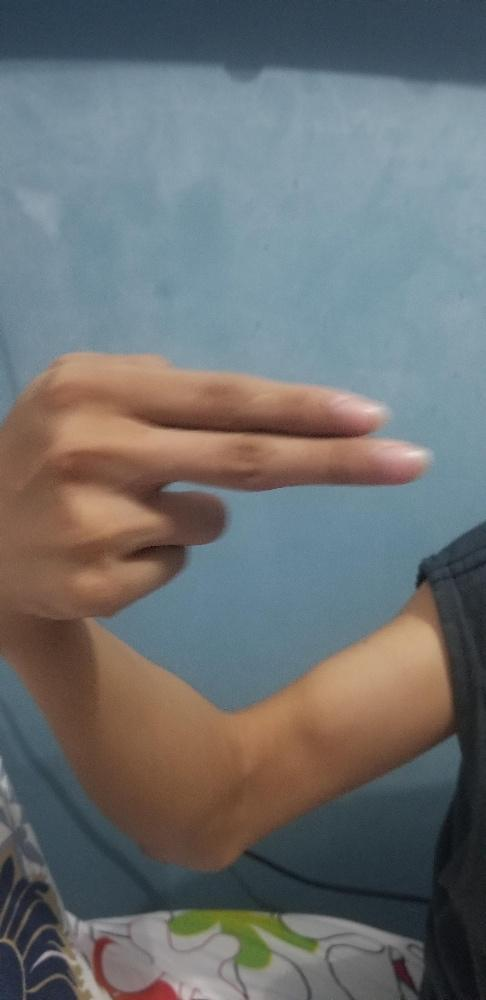h: (2, 342, 427, 649)
